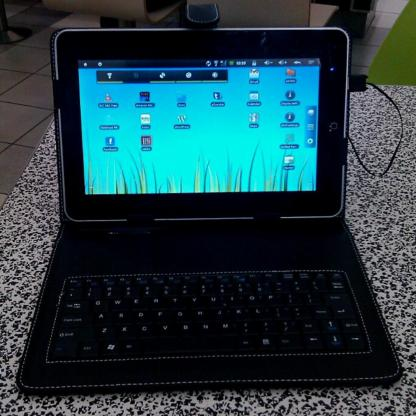board: (8, 23, 408, 388)
